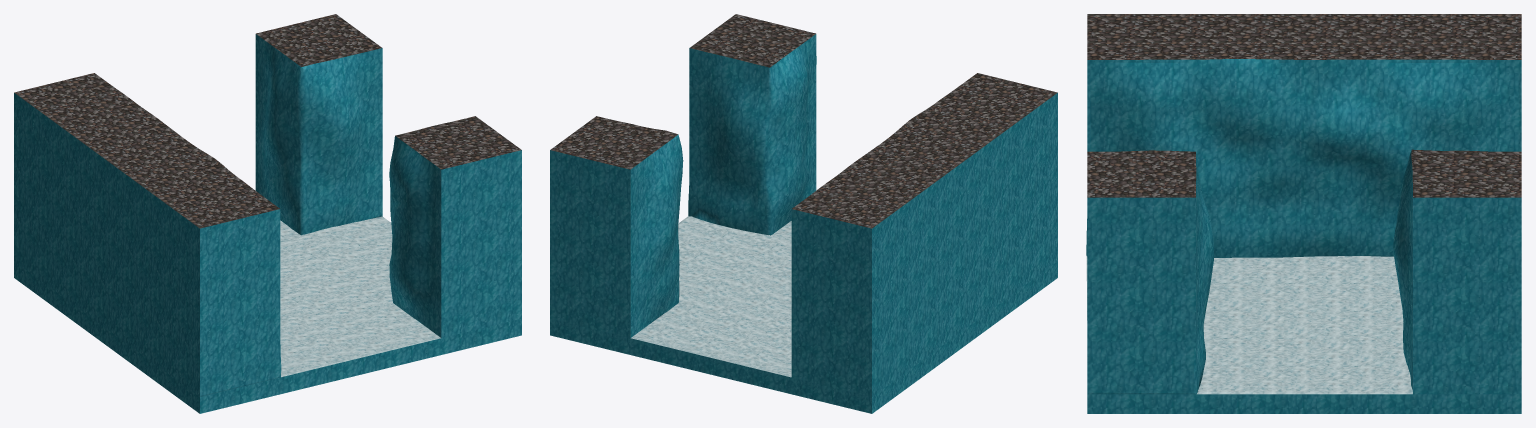
The model's file is Tile_TForm_Ice_v6.fbx.
3 views of the same model, side by side, from view 1: azimuth 30°, elevation 25°; view 2: azimuth 150°, elevation 25°; view 3: azimuth 270°, elevation 25° (orthographic). The views are drawn at different scales.
Parts seen in each view (by area): view 1: TileTForm; view 2: TileTForm; view 3: TileTForm.
Part boxes in pixels (bbox=[...]): TileTForm: bbox=[14, 14, 521, 413]; TileTForm: bbox=[550, 14, 1057, 413]; TileTForm: bbox=[1086, 14, 1521, 413].
Bounding box in the file's own units: 2006 × 1112 × 2005.
3 materials, 3 textured.
